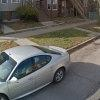Car: (3, 35, 76, 96)
